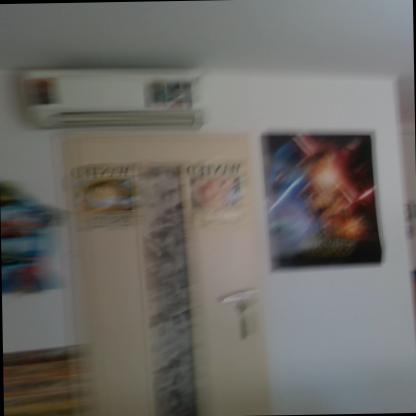closed: (57, 127, 263, 416)
